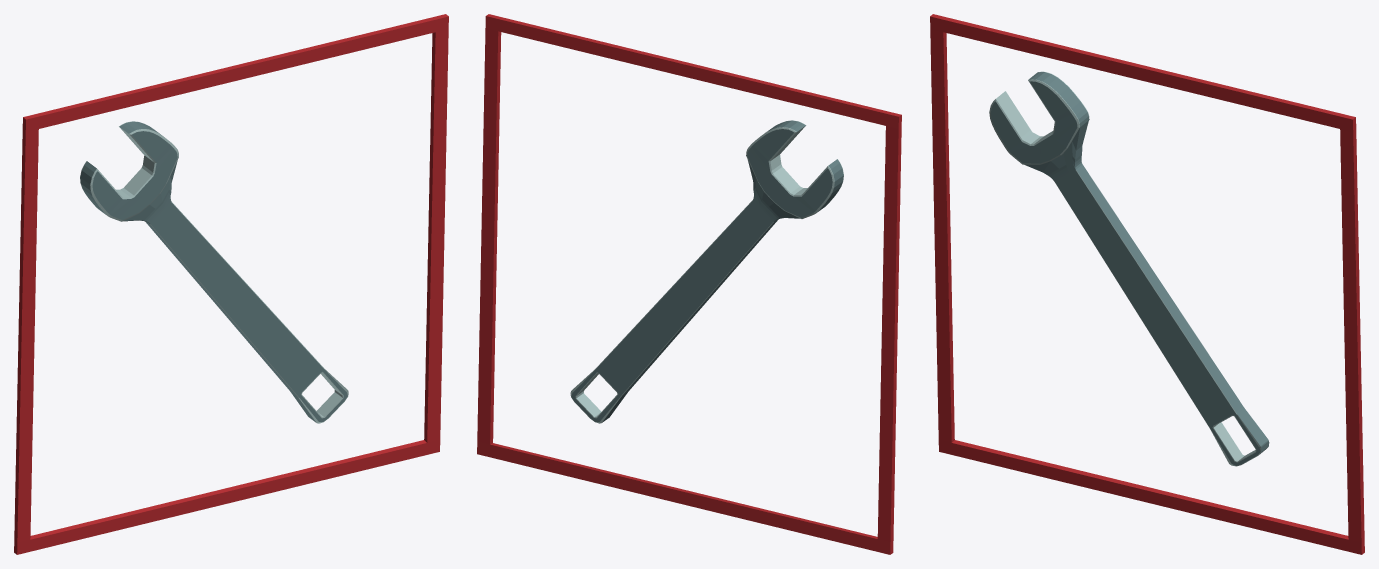
The model's file is healtpickup-jakoavain.fbx.
The picture shows the model from 3 angles, left to right: view 1: azimuth 30°, elevation 25°; view 2: azimuth 150°, elevation 25°; view 3: azimuth 330°, elevation 25°; orthographic projection. The views are drawn at different scales.
Visible parts, largest first — view 1: Cube; view 2: Cube; view 3: Cube.
Boxes of the visible parts, box(x1,y1,x2,y2) form: Cube: box(14, 14, 448, 554); Cube: box(477, 14, 901, 554); Cube: box(930, 14, 1364, 554).
Size of the model in its own units: 222 by 221 by 14.05.
